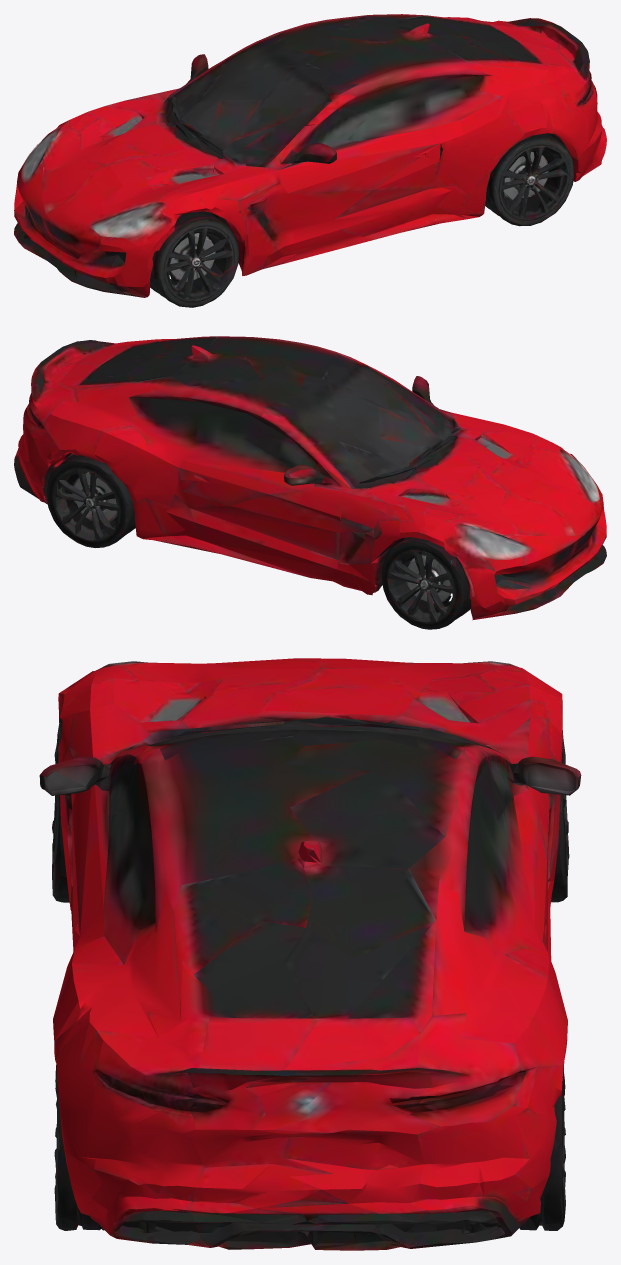
File: sportwagen.glb
3 renders of one model, top to bottom at view 1: azimuth 30°, elevation 25°; view 2: azimuth 150°, elevation 25°; view 3: azimuth 270°, elevation 25°, orthographic. The views are drawn at different scales.
Visible parts, largest first — view 1: output_unwrapped; view 2: output_unwrapped; view 3: output_unwrapped.
Part boxes in pixels (x1=…): output_unwrapped: x1=14, y1=14, x2=606, y2=307; output_unwrapped: x1=14, y1=336, x2=606, y2=629; output_unwrapped: x1=39, y1=658, x2=581, y2=1250.
Bounding box in the file's own units: 1.9 × 0.5677 × 0.8379.
Materials: 1 (1 with a texture image).
